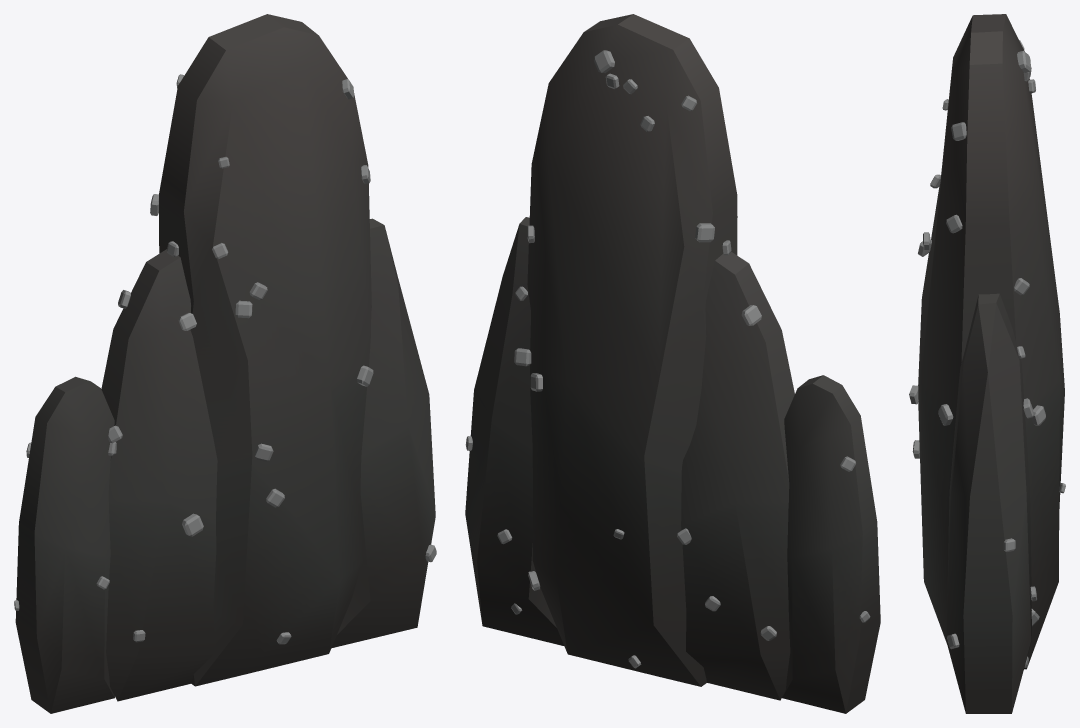
The model's file is IronSource1.fbx.
3 renders of one model, left to right at view 1: azimuth 30°, elevation 25°; view 2: azimuth 150°, elevation 25°; view 3: azimuth 270°, elevation 25°, orthographic.
Visible parts, largest first — view 1: IronSource1_LOD0; view 2: IronSource1_LOD0; view 3: IronSource1_LOD0.
Boxes of the visible parts, x1=… form: IronSource1_LOD0: x1=14, y1=14, x2=436, y2=713; IronSource1_LOD0: x1=465, y1=14, x2=880, y2=713; IronSource1_LOD0: x1=909, y1=14, x2=1065, y2=713.
Size of what is drawn, in the model's own units: 3.59 by 5.39 by 1.24.
